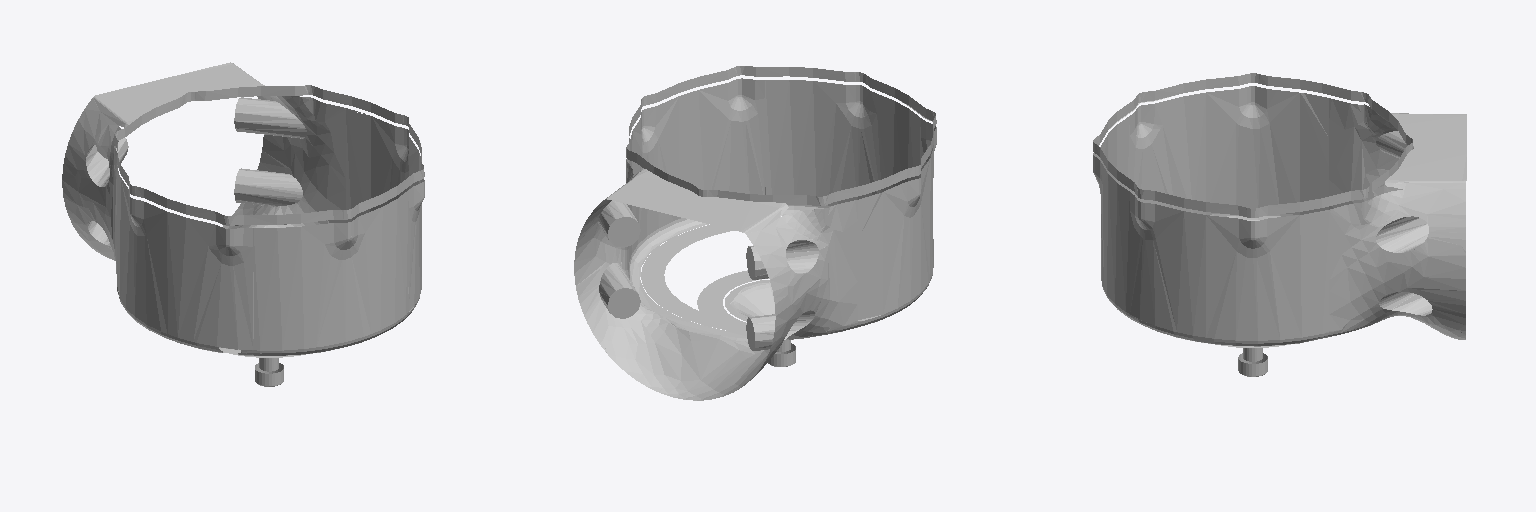
3 views of the same model, side by side, from view 1: azimuth 30°, elevation 25°; view 2: azimuth 150°, elevation 25°; view 3: azimuth 270°, elevation 25° (orthographic).
Visible parts, largest first — view 1: __TMPOBJ_____TMPMESH__.054; view 2: __TMPOBJ_____TMPMESH__.054; view 3: __TMPOBJ_____TMPMESH__.054.
Boxes of the visible parts, x1=… form: __TMPOBJ_____TMPMESH__.054: x1=62, y1=62, x2=424, y2=386; __TMPOBJ_____TMPMESH__.054: x1=574, y1=66, x2=936, y2=400; __TMPOBJ_____TMPMESH__.054: x1=1093, y1=73, x2=1466, y2=376.
Bounding box in the file's own units: 0.1019 × 0.0808 × 0.1189.